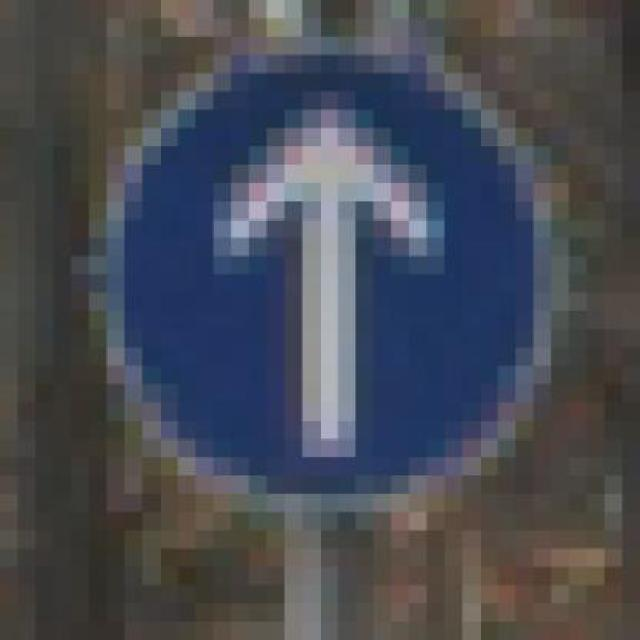Straight Ahead Only: (86, 31, 620, 524)
